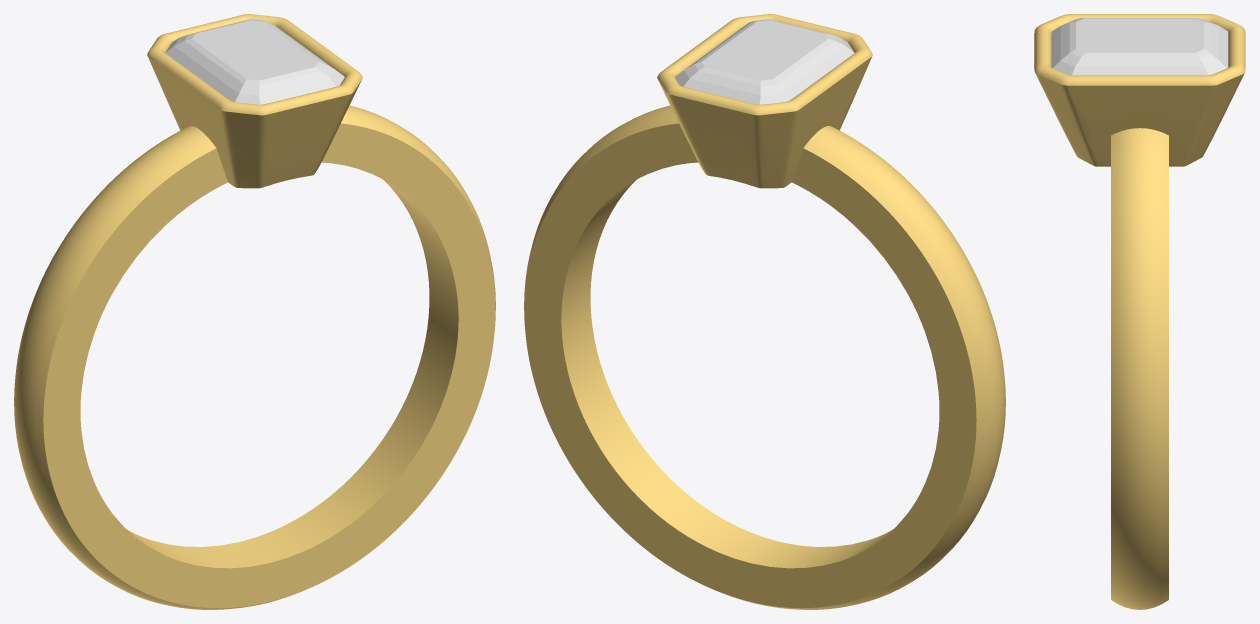
Rendered from Brynnes Design for Evan and Mckenna.glb.
The picture shows the model from 3 angles, left to right: view 1: azimuth 30°, elevation 25°; view 2: azimuth 150°, elevation 25°; view 3: azimuth 270°, elevation 25°; orthographic projection.
Parts seen in each view (by area): view 1: Mckenna YG for 3d model, Mckenna dia for 3d model; view 2: Mckenna YG for 3d model, Mckenna dia for 3d model; view 3: Mckenna YG for 3d model, Mckenna dia for 3d model.
Part boxes in pixels (x1,y1,x2,y2): Mckenna YG for 3d model: [14, 14, 495, 609]; Mckenna dia for 3d model: [165, 19, 344, 104]; Mckenna YG for 3d model: [524, 14, 1005, 609]; Mckenna dia for 3d model: [675, 19, 854, 104]; Mckenna YG for 3d model: [1034, 14, 1245, 609]; Mckenna dia for 3d model: [1051, 18, 1228, 75].
Bounding box in the file's own units: 20.5 × 22.94 × 7.99.
